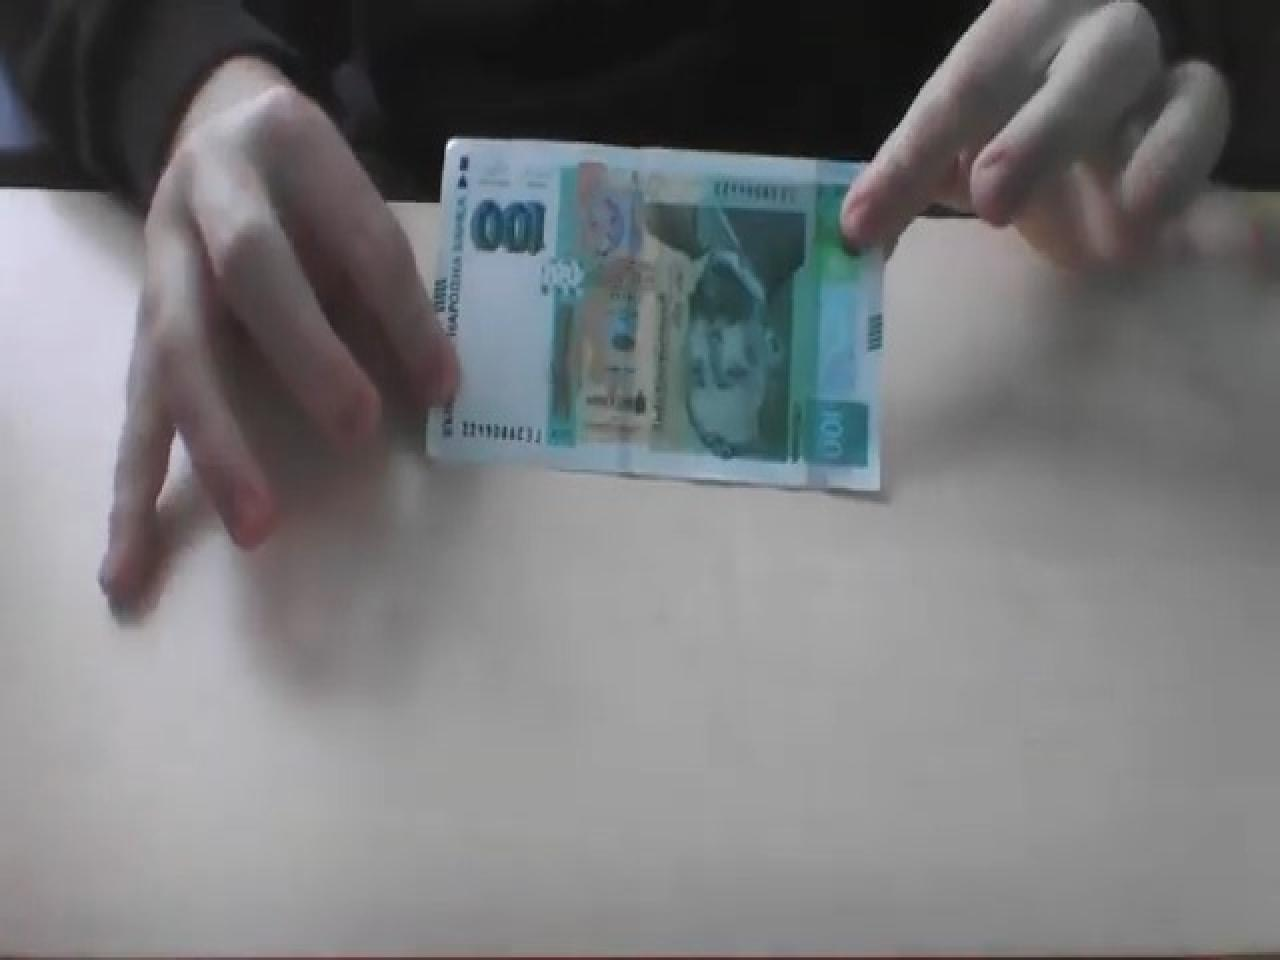100leva: (420, 139, 892, 499)
